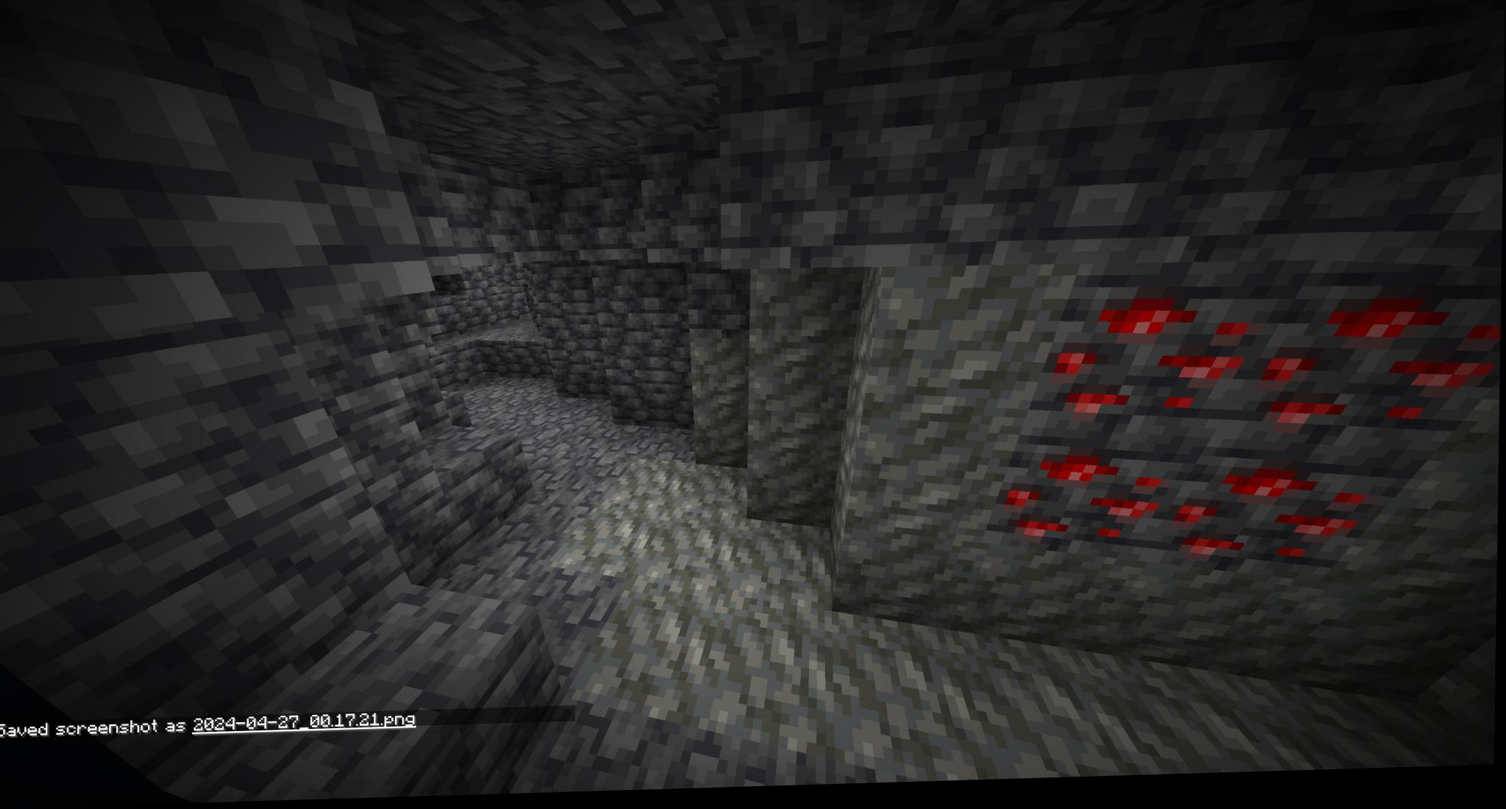redstone ore: (1251, 297, 1482, 463), (1044, 286, 1248, 452), (978, 443, 1173, 565), (1167, 456, 1347, 577)
